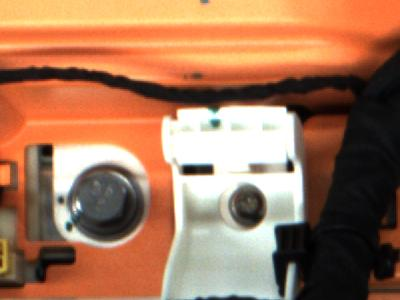nut_b: (58, 163, 149, 240)
